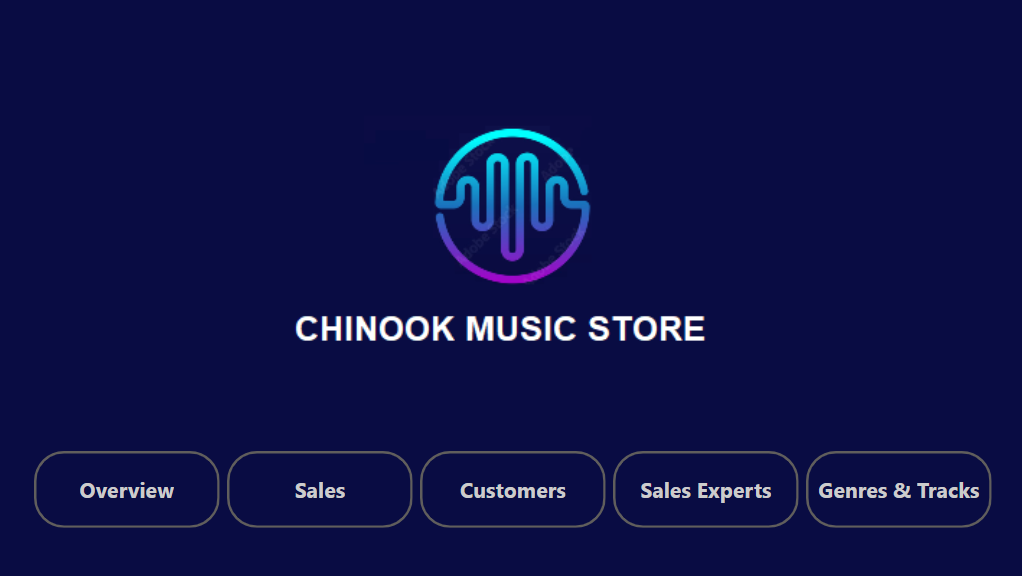

The dashboard page shown, as its layout file describes it:
{"tool":"powerbi","page":{"name":"Home Page","canvas":[1280,720],"ordinal":0},"visuals":[{"type":"actionButton","box":[44,563.2,232.2,96],"z":0},{"type":"actionButton","box":[526.6,563.2,232.2,96],"z":1000},{"type":"actionButton","box":[285.3,563.2,232.2,96],"z":2000},{"type":"actionButton","box":[767.9,563.2,232.2,96],"z":3000},{"type":"actionButton","box":[1009.2,563.2,232.2,96],"z":4000}]}

Visuals, with their boxes in screenshot pixels (x1, y1, x2, y2), scaled from the page's 1280x720 canvas onto the 1022x576 screenshot:
actionButton: 35/451/221/527
actionButton: 420/451/606/527
actionButton: 228/451/413/527
actionButton: 613/451/799/527
actionButton: 806/451/991/527
